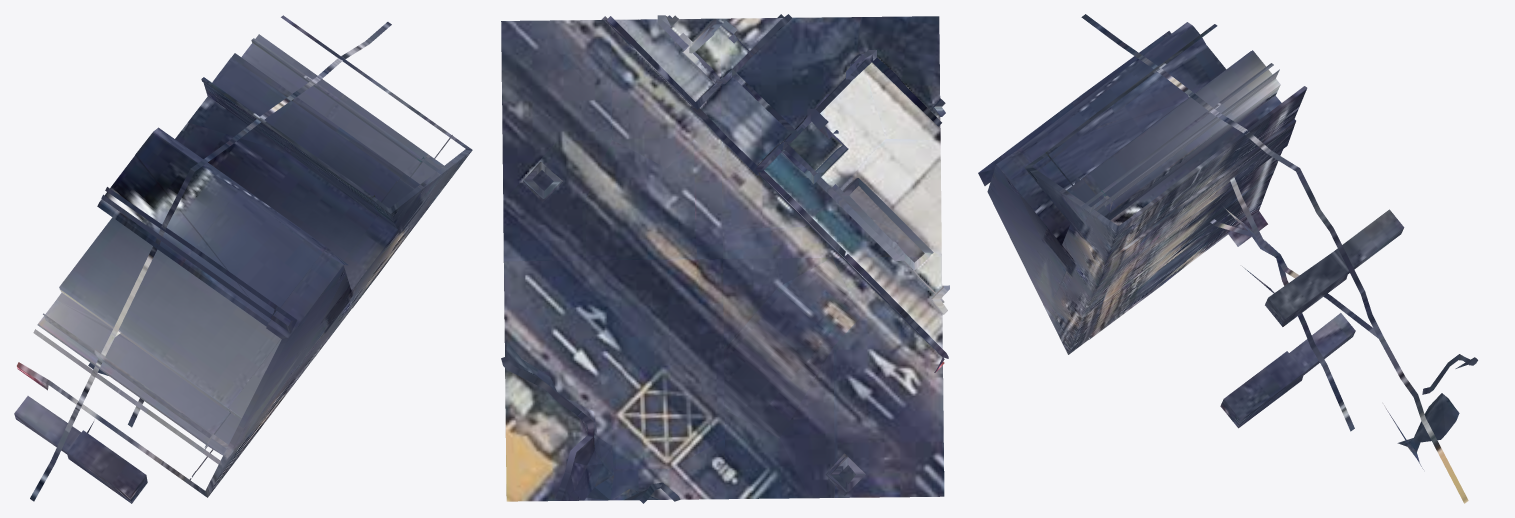
The picture shows the model from 3 angles, left to right: view 1: azimuth 30°, elevation 25°; view 2: azimuth 150°, elevation 25°; view 3: azimuth 270°, elevation 25°; orthographic projection. The views are drawn at different scales.
Bounding box in the file's own units: 39.05 × 39.91 × 43.27.
Materials: 2 (2 with a texture image).
